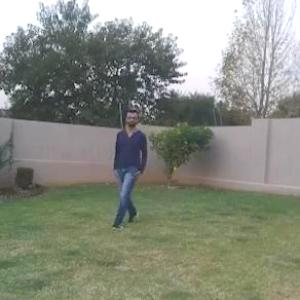follow: (111, 112, 144, 223)
